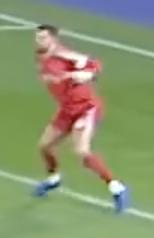goalkeeper: (19, 11, 145, 220)
